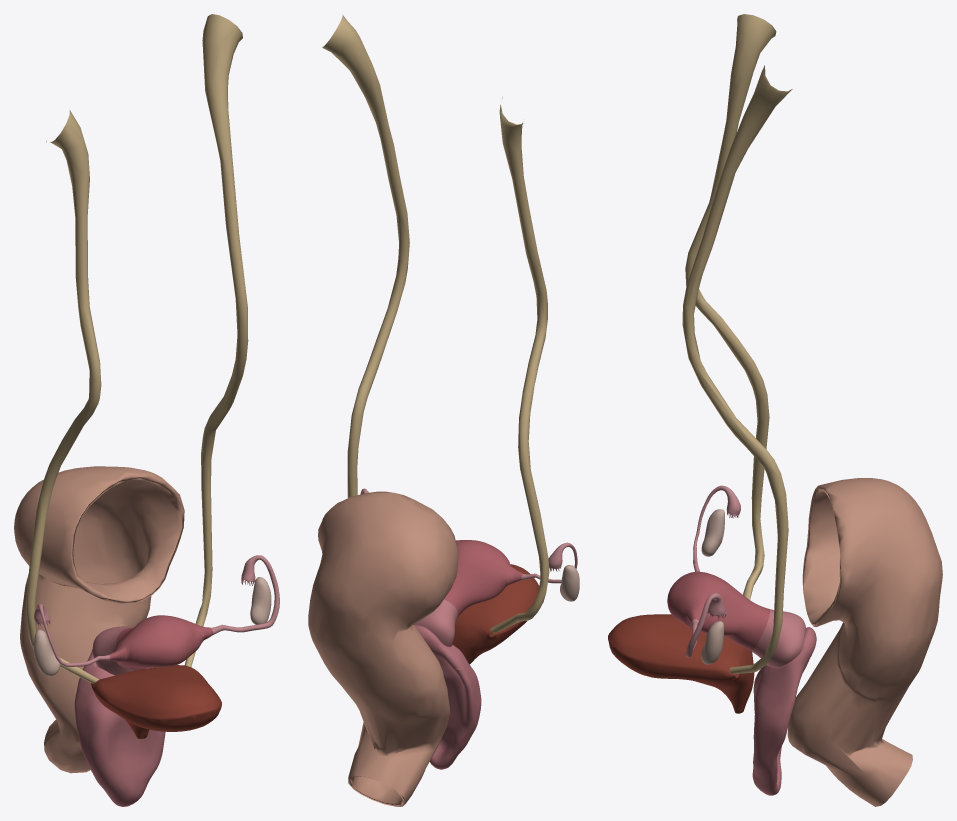
Rendered from female.glb.
The picture shows the model from 3 angles, left to right: view 1: azimuth 30°, elevation 25°; view 2: azimuth 150°, elevation 25°; view 3: azimuth 270°, elevation 25°; orthographic projection. The views are drawn at different scales.
Parts seen in each view (by area): view 1: f17, f19, f20, f23, f24, f7, f3, f15, f16, f0, f25; view 2: f17, f19, f20, f23, f24, f2, f3, f25, f7, f16; view 3: f17, f19, f20, f23, f24, f2, f7, f3, f25, f16, f15, f14.
Boxes of the visible parts, x1,y1,x2,y2 form: f17: (14, 466, 184, 773); f19: (184, 14, 248, 666); f20: (26, 110, 101, 683); f23: (91, 665, 221, 738); f24: (74, 685, 165, 806); f7: (120, 615, 203, 667); f3: (92, 626, 133, 675); f15: (250, 577, 271, 624); f16: (33, 629, 60, 676); f0: (229, 555, 279, 632); f25: (78, 649, 151, 696); f17: (308, 491, 458, 806); f19: (322, 14, 409, 497); f20: (490, 97, 549, 634); f23: (452, 564, 539, 664); f24: (429, 664, 481, 769); f2: (450, 549, 508, 609); f3: (413, 599, 457, 646); f25: (414, 625, 469, 669); f7: (456, 540, 511, 569); f16: (560, 565, 579, 601); f17: (787, 478, 942, 806); f19: (682, 65, 792, 674); f20: (685, 14, 776, 599); f23: (608, 614, 754, 713); f24: (752, 667, 797, 795); f2: (700, 576, 756, 644); f7: (667, 571, 717, 628); f3: (751, 609, 805, 666); f25: (760, 627, 816, 693); f16: (701, 509, 724, 556); f15: (701, 621, 723, 664); f14: (739, 604, 770, 650).
Bounding box in the file's own units: 9.84 × 30.68 × 11.66.
